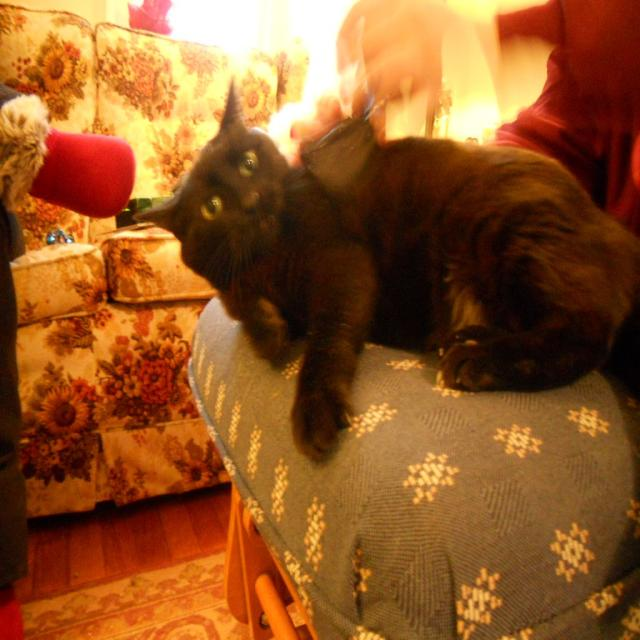Cat: (132, 73, 639, 462)
